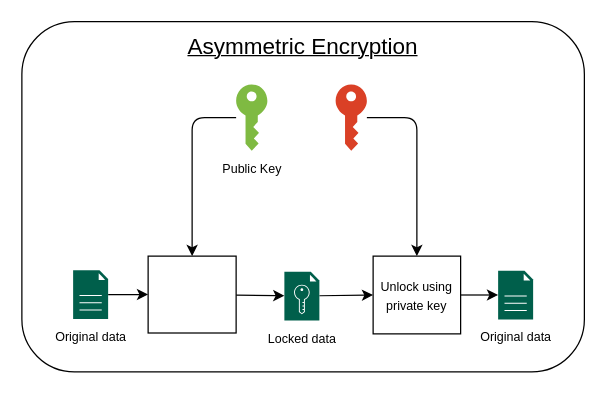
Image size: 606x395. Some labels were removed from this diagram. Here are the shapes that lost their labels. From the top down, the box of each, then its label:
(335, 84, 366, 150): Private Key
(147, 255, 236, 333): Lock using public key
